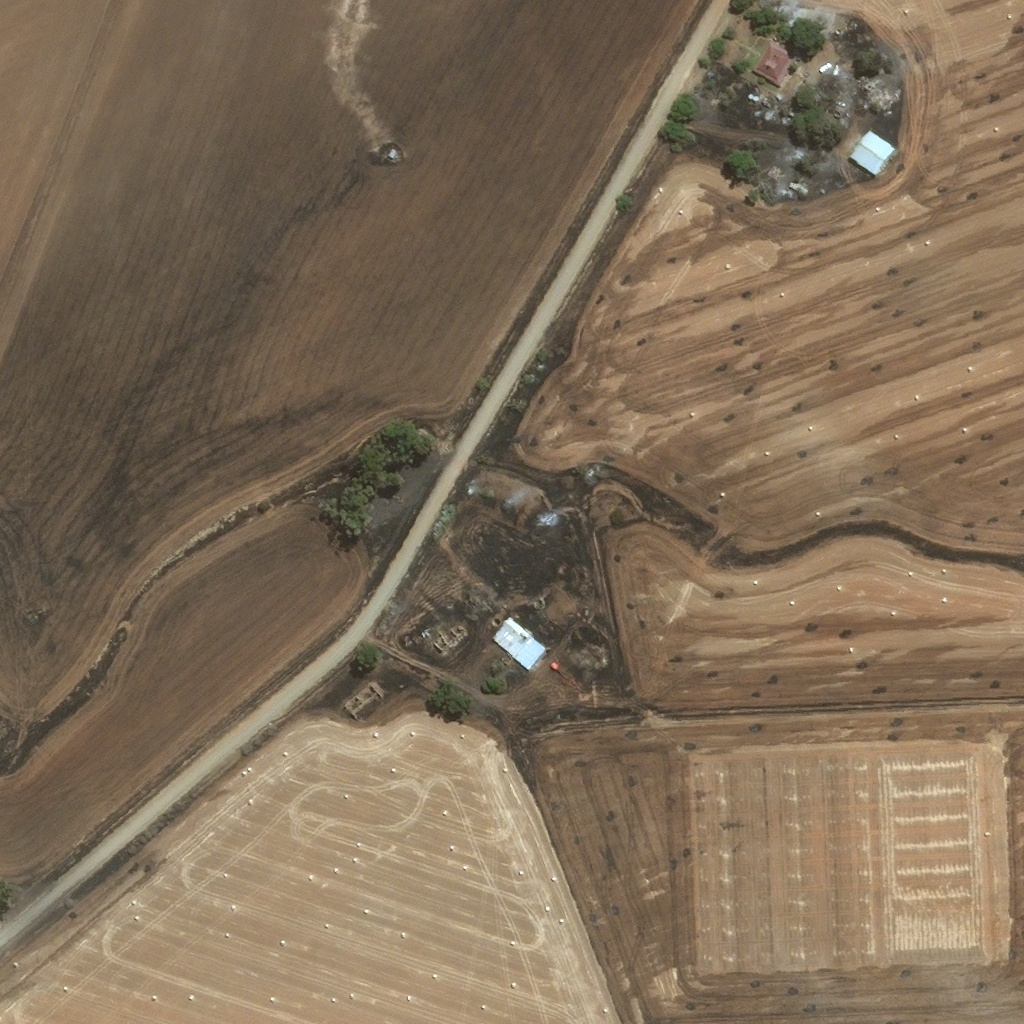0 no-damage: (491, 615, 550, 672), (849, 128, 897, 175), (751, 40, 797, 88)
2 major-damage: (788, 180, 807, 193)
4 un-classified: (776, 93, 782, 100), (752, 96, 758, 102)
